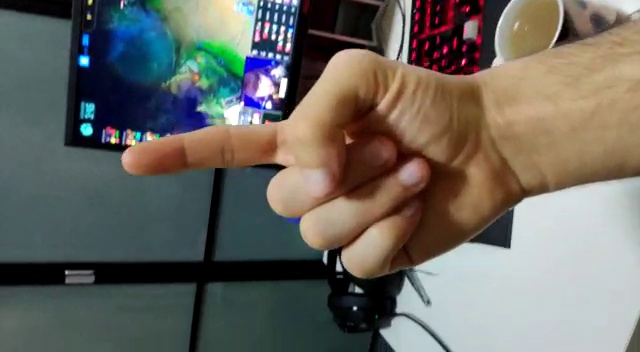One: (112, 109, 316, 186)
